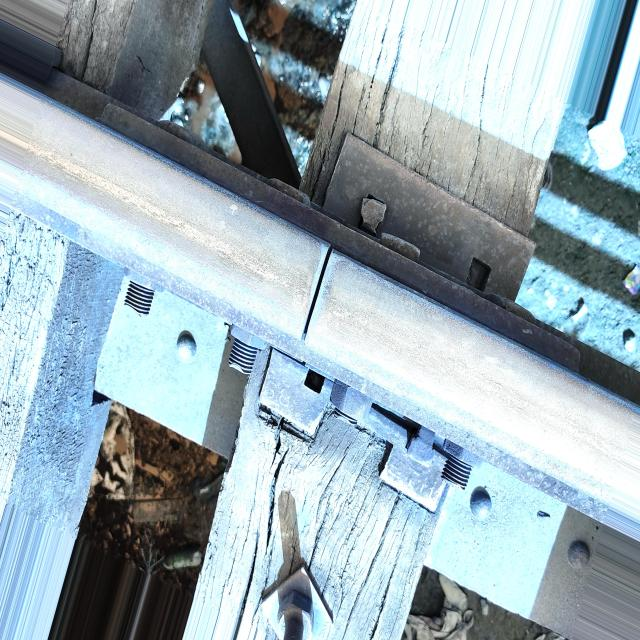crack: (296, 218, 340, 374)
